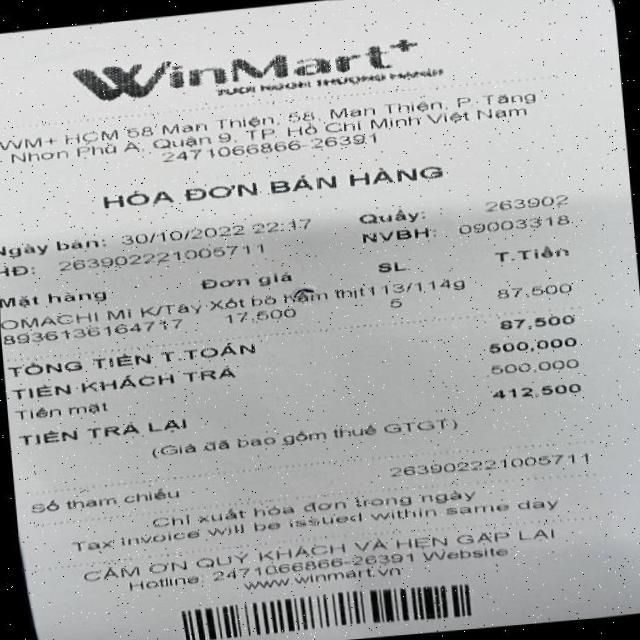Date: (110, 219, 246, 248)
Store_Name: (35, 22, 468, 121)
amount_number: (491, 308, 580, 334)
label_total: (1, 334, 260, 379)
